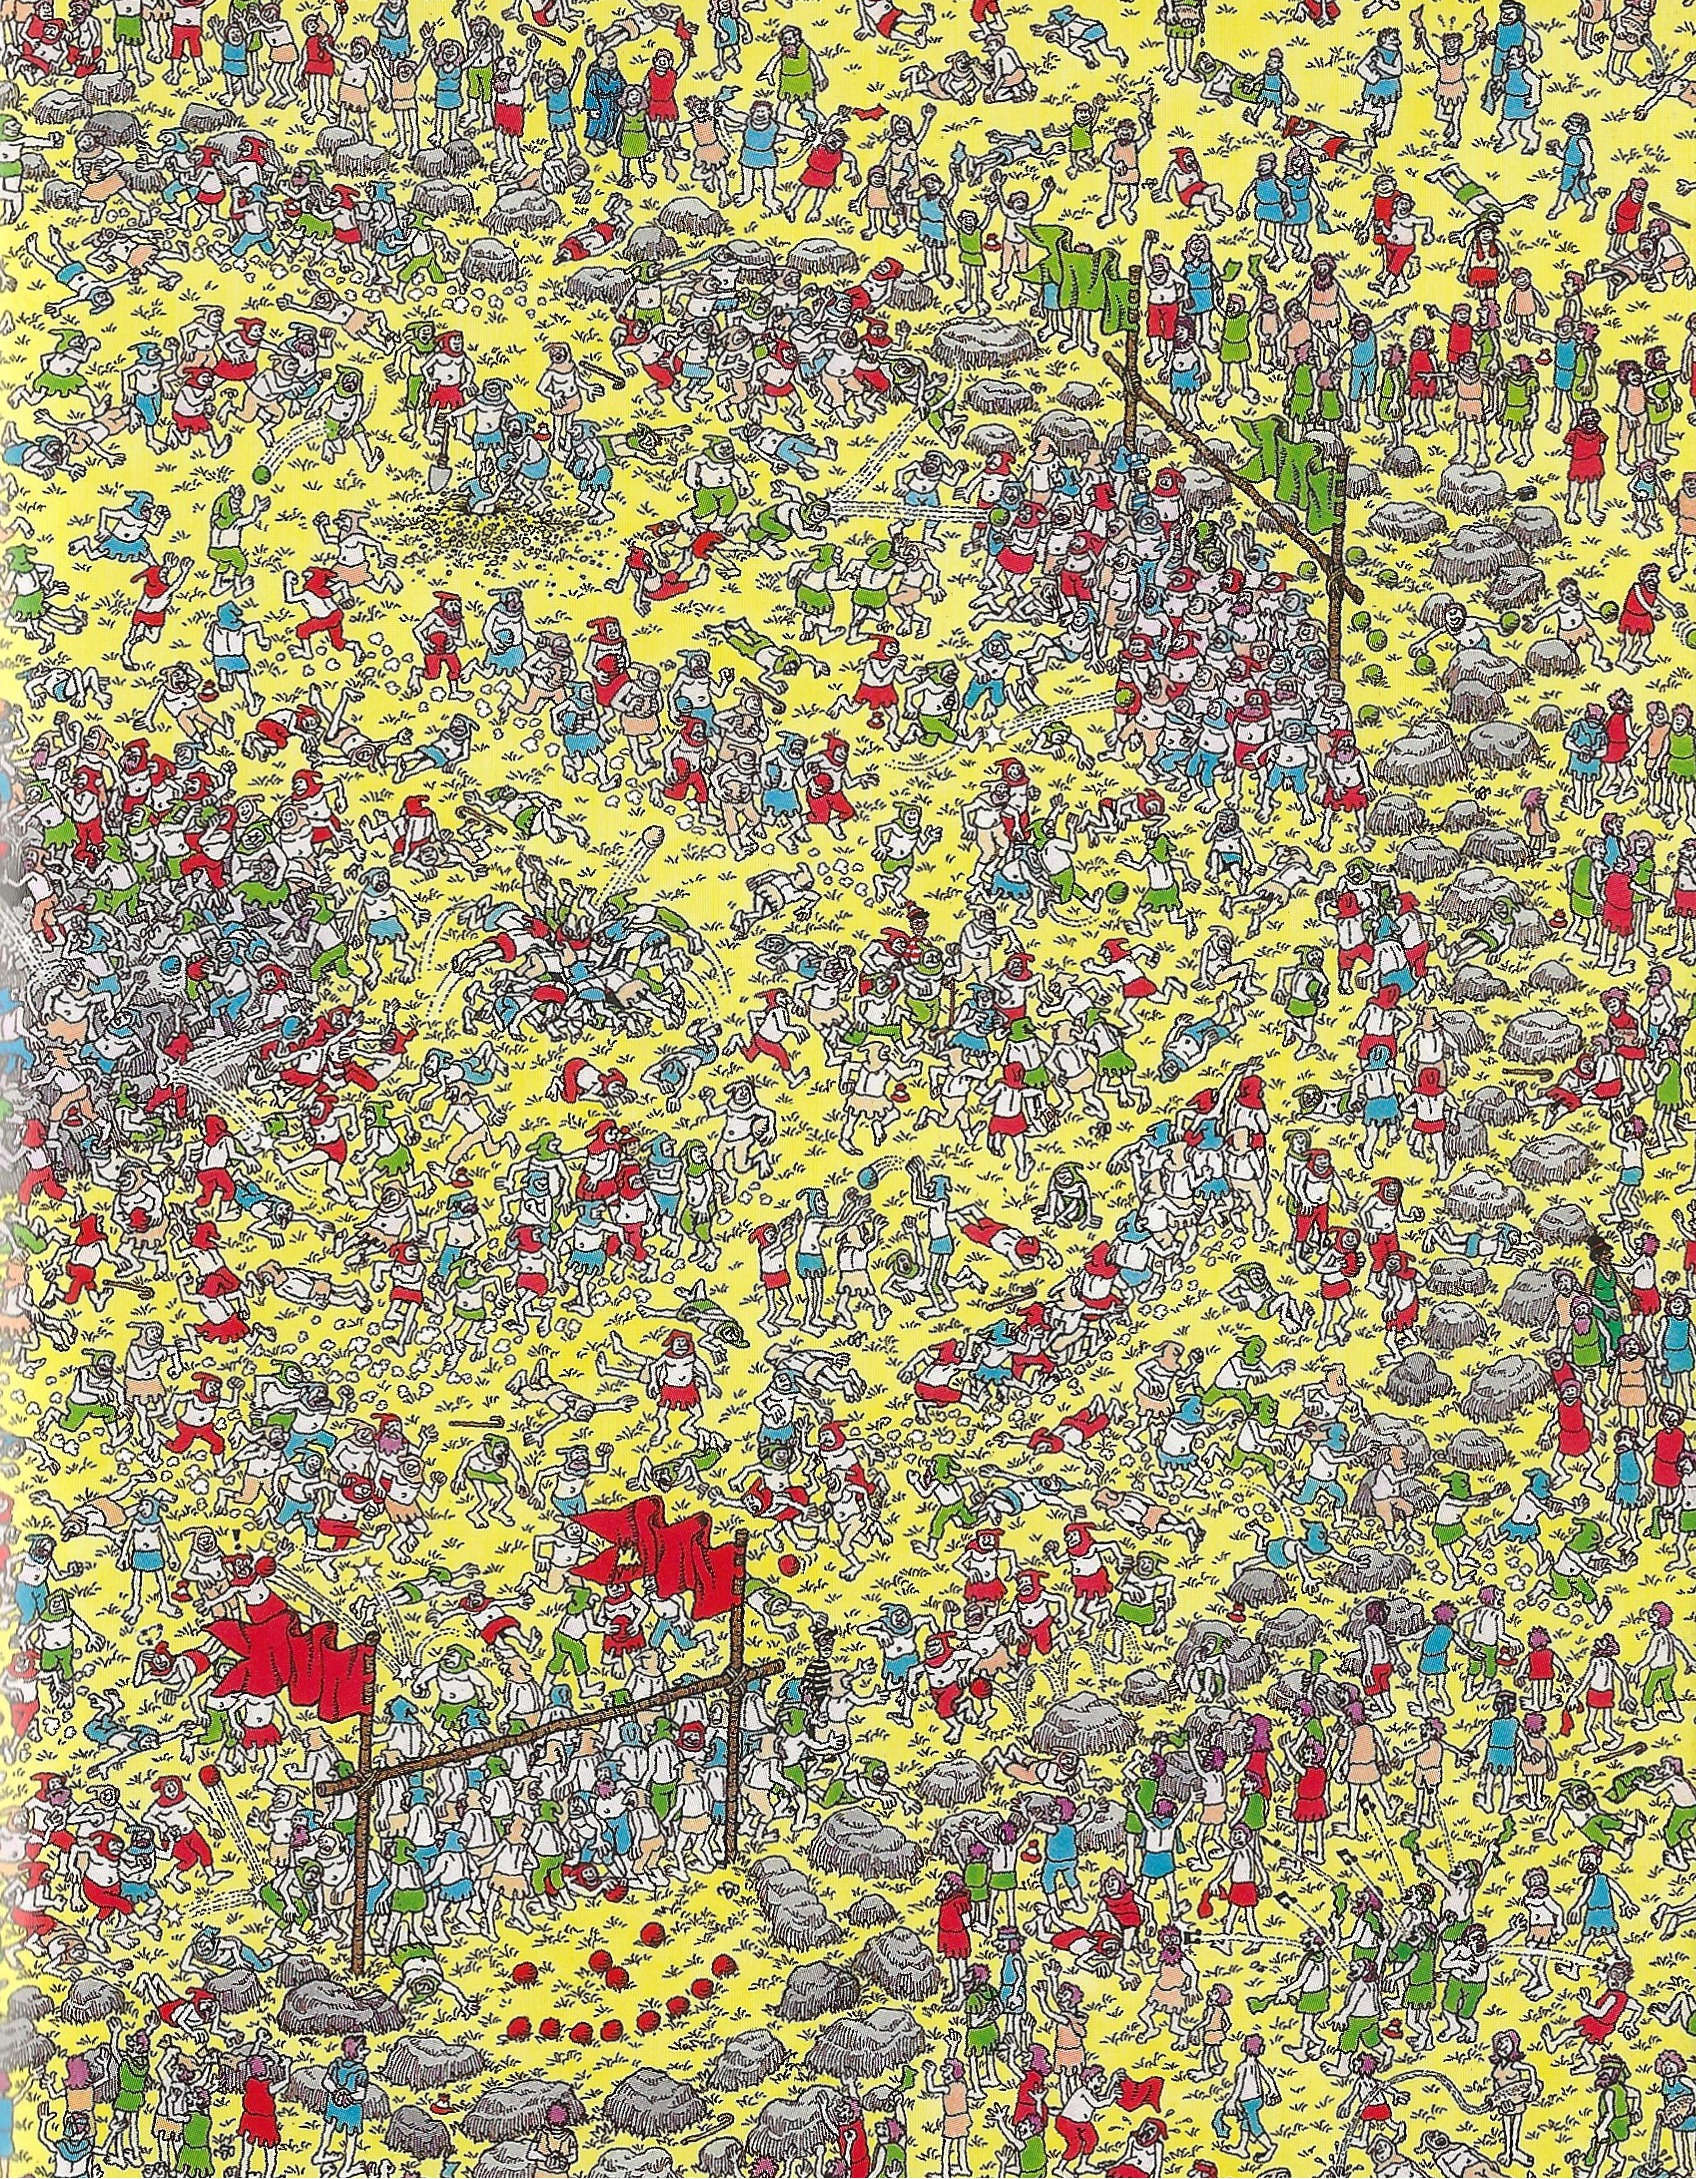Charlie: (902, 900, 930, 960)
Odlaw: (801, 1625, 835, 1705)
